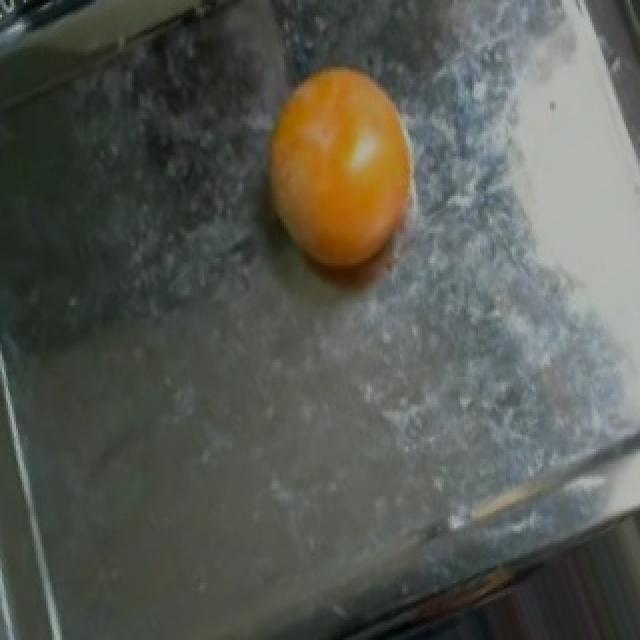Fruit: (240, 50, 444, 290)
